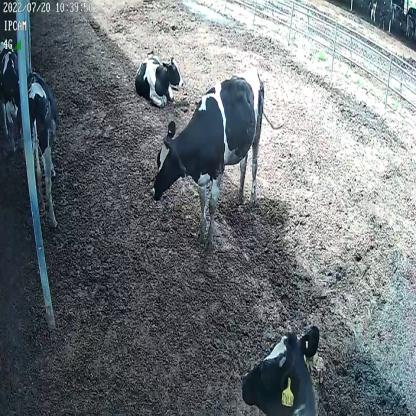cow: (150, 65, 265, 249), (24, 66, 60, 230), (135, 50, 183, 107)
